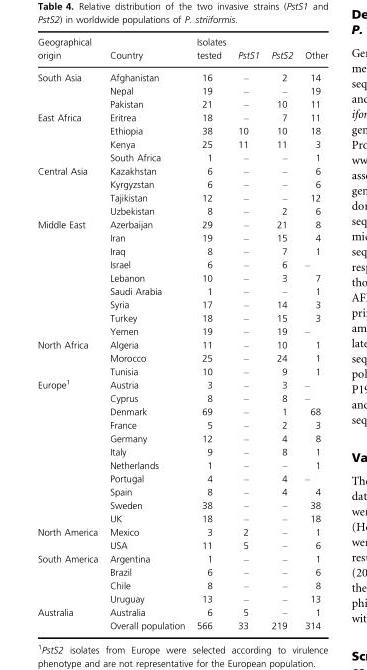table: (37, 37, 327, 630)
table column: (103, 37, 190, 630), (37, 37, 103, 630), (190, 37, 231, 630), (264, 37, 298, 630), (231, 37, 264, 630), (298, 37, 327, 630)
table column header: (37, 37, 327, 65)
table row: (37, 37, 327, 65), (37, 65, 327, 83), (37, 83, 327, 97), (37, 110, 327, 124), (37, 150, 327, 164), (37, 190, 327, 204), (37, 230, 327, 244), (37, 270, 327, 284), (37, 297, 327, 311), (37, 337, 327, 351), (37, 377, 327, 391), (37, 404, 327, 418), (37, 444, 327, 458), (37, 484, 327, 498), (37, 511, 327, 525), (37, 551, 327, 565), (37, 591, 327, 605), (37, 605, 327, 619), (37, 97, 327, 110), (37, 124, 327, 137), (37, 137, 327, 150), (37, 164, 327, 177), (37, 177, 327, 190), (37, 204, 327, 217), (37, 217, 327, 230), (37, 244, 327, 257), (37, 257, 327, 270), (37, 284, 327, 297), (37, 311, 327, 324), (37, 324, 327, 337), (37, 351, 327, 364), (37, 364, 327, 377), (37, 391, 327, 404), (37, 418, 327, 431), (37, 431, 327, 444), (37, 458, 327, 471), (37, 471, 327, 484), (37, 498, 327, 511), (37, 525, 327, 538), (37, 538, 327, 551), (37, 565, 327, 578), (37, 578, 327, 591), (37, 619, 327, 630)
table spanning cell: (37, 377, 103, 525), (37, 217, 103, 337), (37, 110, 103, 164), (37, 551, 103, 605), (37, 164, 103, 217), (37, 65, 103, 110), (37, 337, 103, 377), (37, 525, 103, 551), (37, 605, 103, 630)
